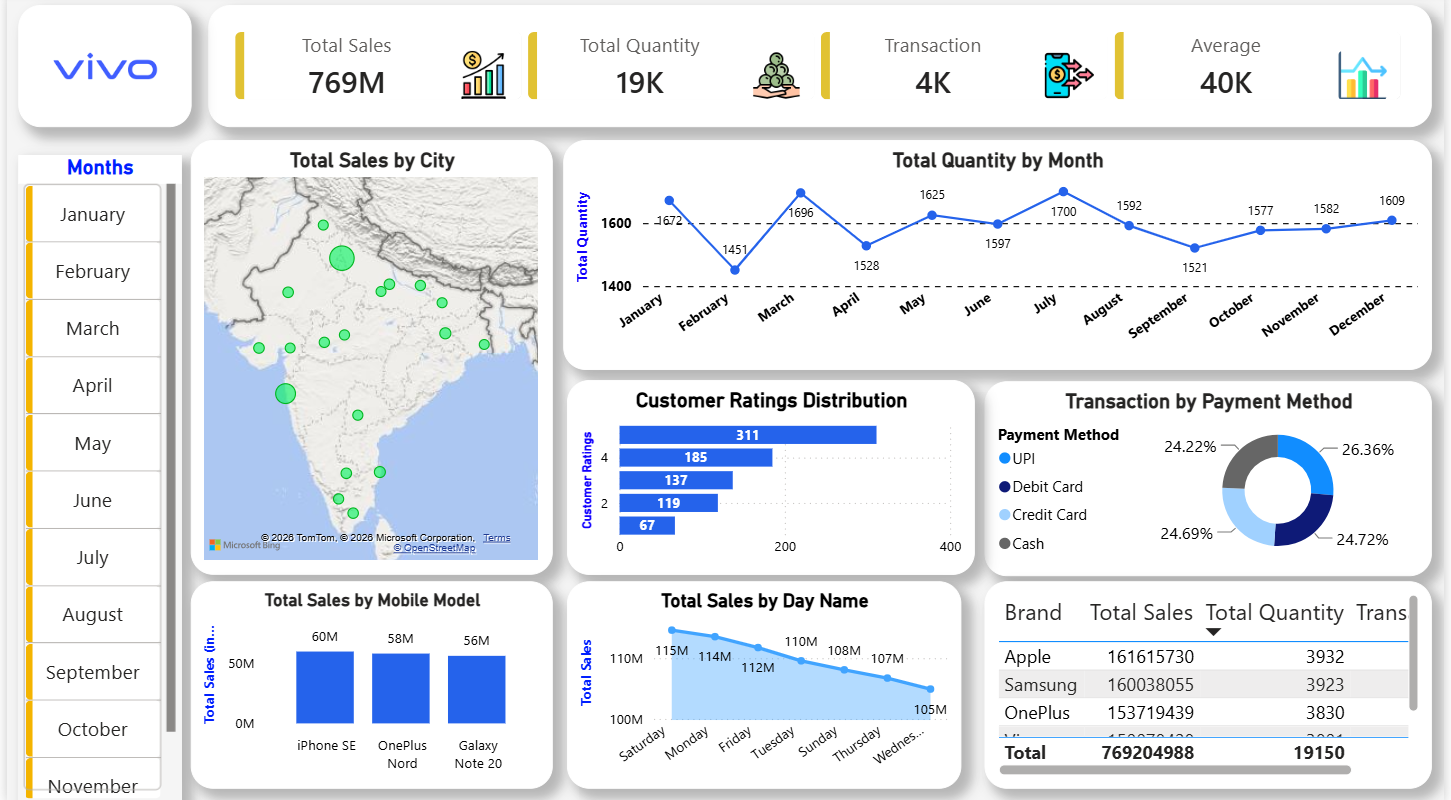

This screenshot's page, from the dashboard's own definition file:
{"tool":"powerbi","page":{"name":"DASHBOARD","canvas":[1280,720],"ordinal":21},"visuals":[{"type":"advancedSlicerVisual","title":"Months","fields":{"Values":["DASHBOARD_SALES_DATA.Date.Variation.Date Hierarchy.Month"]},"box":[9.7,142.4,146,577.9],"z":1000},{"type":"cardVisual","fields":{"Data":["DASHBOARD_SALES_DATA.Total Sales","DASHBOARD_SALES_DATA.Total Quantity","DASHBOARD_SALES_DATA.Transaction","DASHBOARD_SALES_DATA.Average"]},"box":[179.8,8.4,1089.4,108.6],"z":2000},{"type":"map","fields":{"Category":["DASHBOARD_SALES_DATA.City"],"Size":["DASHBOARD_SALES_DATA.Total Sales"]},"box":[164.1,129.1,322.1,387.3],"z":3000},{"type":"lineChart","fields":{"Category":["DASHBOARD_SALES_DATA.Date.Variation.Date Hierarchy.Month","DASHBOARD_SALES_DATA.Date.Variation.Date Hierarchy.Day"],"Y":["DASHBOARD_SALES_DATA.Total Quantity"]},"box":[495.8,129.1,773.3,205.1],"z":4000},{"type":"columnChart","fields":{"Category":["DASHBOARD_SALES_DATA.Mobile Model"],"Y":["DASHBOARD_SALES_DATA.Total Sales"]},"box":[164.1,522.4,322.1,184.6],"z":5000},{"type":"donutChart","fields":{"Category":["DASHBOARD_SALES_DATA.Payment Method"],"Y":["DASHBOARD_SALES_DATA.Transaction"]},"box":[870.5,344,398.5,173.7],"z":6000},{"type":"clusteredBarChart","title":" Customer Ratings Distribution","fields":{"Category":["DASHBOARD_SALES_DATA.Customer Ratings"],"Y":["CountNonNull(DASHBOARD_SALES_DATA.Customer Ratings)"]},"box":[498.3,342.6,363.1,173.7],"z":7000},{"type":"areaChart","fields":{"Category":["DASHBOARD_SALES_DATA.Day Name"],"Y":["DASHBOARD_SALES_DATA.Total Sales"]},"box":[498.3,522.4,351.1,184.6],"z":8000},{"type":"image","box":[9.7,8.4,154.4,108.6],"z":9000},{"type":"tableEx","fields":{"Values":["DASHBOARD_SALES_DATA.Brand","DASHBOARD_SALES_DATA.Total Sales","DASHBOARD_SALES_DATA.Total Quantity","DASHBOARD_SALES_DATA.Transaction"]},"box":[870.5,522.1,398.5,184.8],"z":10000}]}

Visuals, with their boxes in screenshot pixels (x1, y1, x2, y2), scaled from the page's 1280x720 canvas onto the 1451x800 screenshot:
"Months" advancedSlicerVisual: rect(11, 158, 177, 799)
cardVisual - DASHBOARD_SALES_DATA.Total Sales x DASHBOARD_SALES_DATA.Total Quantity: rect(204, 9, 1439, 130)
map - DASHBOARD_SALES_DATA.City x DASHBOARD_SALES_DATA.Total Sales: rect(186, 143, 551, 574)
lineChart - DASHBOARD_SALES_DATA.Date.Variation.Date Hierarchy.Month x DASHBOARD_SALES_DATA.Date.Variation.Date Hierarchy.Day: rect(562, 143, 1439, 371)
columnChart - DASHBOARD_SALES_DATA.Mobile Model x DASHBOARD_SALES_DATA.Total Sales: rect(186, 580, 551, 786)
donutChart - DASHBOARD_SALES_DATA.Payment Method x DASHBOARD_SALES_DATA.Transaction: rect(987, 382, 1439, 575)
" Customer Ratings Distribution" clusteredBarChart: rect(565, 381, 976, 574)
areaChart - DASHBOARD_SALES_DATA.Day Name x DASHBOARD_SALES_DATA.Total Sales: rect(565, 580, 963, 786)
image: rect(11, 9, 186, 130)
tableEx - DASHBOARD_SALES_DATA.Brand x DASHBOARD_SALES_DATA.Total Sales: rect(987, 580, 1439, 785)
